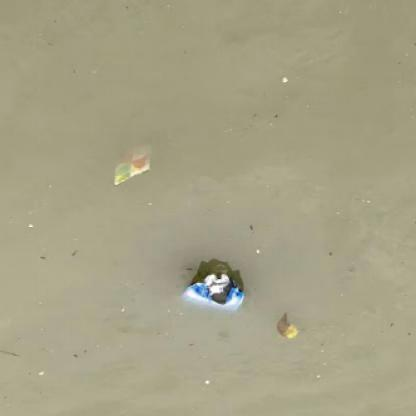Trash: (178, 265, 250, 318)
